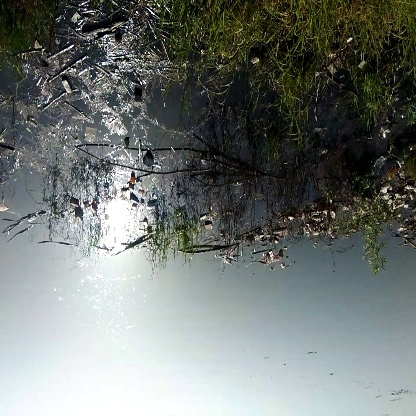branch: (88, 146, 227, 181)
